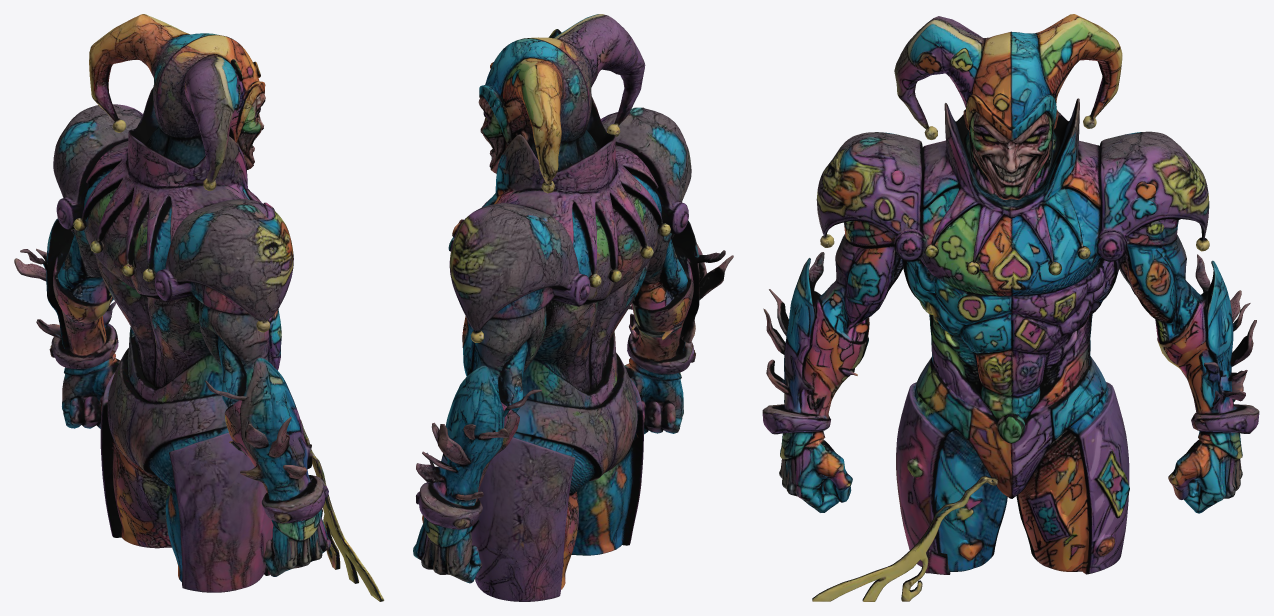
The model's file is maelstrom3d.glb.
The picture shows the model from 3 angles, left to right: view 1: azimuth 30°, elevation 25°; view 2: azimuth 150°, elevation 25°; view 3: azimuth 270°, elevation 25°; orthographic projection. The views are drawn at different scales.
Visible parts, largest first — view 1: tripo_node_dba5267a-0bc8-4d32-9c1c-1d738c7487bb; view 2: tripo_node_dba5267a-0bc8-4d32-9c1c-1d738c7487bb; view 3: tripo_node_dba5267a-0bc8-4d32-9c1c-1d738c7487bb.
Boxes of the visible parts, x1=… form: tripo_node_dba5267a-0bc8-4d32-9c1c-1d738c7487bb: x1=14, y1=14, x2=384, y2=601; tripo_node_dba5267a-0bc8-4d32-9c1c-1d738c7487bb: x1=413, y1=14, x2=733, y2=601; tripo_node_dba5267a-0bc8-4d32-9c1c-1d738c7487bb: x1=762, y1=14, x2=1259, y2=601.
Size of the model in its own units: 0.3621 by 1 by 0.8481.
1 material, 1 textured.
